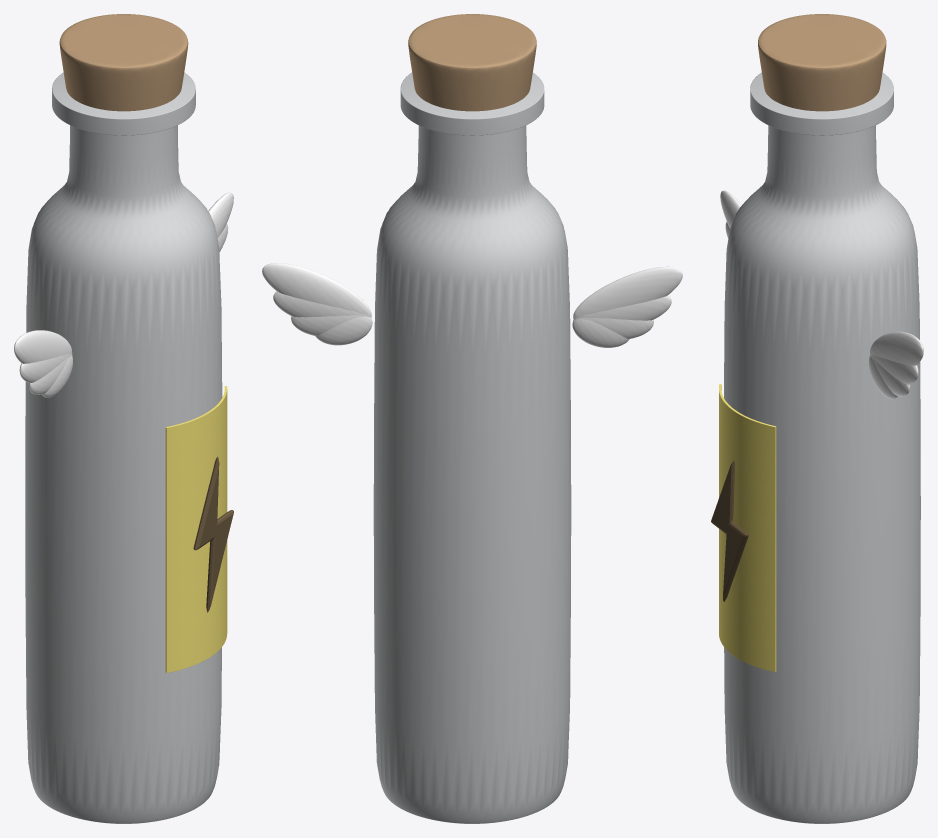
The model's file is speedpotion.glb.
The picture shows the model from 3 angles, left to right: view 1: azimuth 30°, elevation 25°; view 2: azimuth 150°, elevation 25°; view 3: azimuth 270°, elevation 25°; orthographic projection.
Parts seen in each view (by area): view 1: SpeedPotion_Glass, SpeedPotion_Label, SpeedPotion_Cork, SpeedPotion_LabelIcon, SpeedPotion_WingFeather.004, SpeedPotion_WingFeather.005, SpeedPotion_WingFeather, SpeedPotion_WingFeather.006, SpeedPotion_WingFeather.007; view 2: SpeedPotion_Glass, SpeedPotion_Cork, SpeedPotion_WingFeather, SpeedPotion_WingFeather.004, SpeedPotion_WingFeather.005, SpeedPotion_WingFeather.001, SpeedPotion_WingFeather.003, SpeedPotion_WingFeather.007, SpeedPotion_WingFeather.006, SpeedPotion_WingFeather.002; view 3: SpeedPotion_Glass, SpeedPotion_Label, SpeedPotion_Cork, SpeedPotion_LabelIcon, SpeedPotion_WingFeather, SpeedPotion_WingFeather.001, SpeedPotion_WingFeather.002, SpeedPotion_WingFeather.004.
Boxes of the visible parts, left/top/right/bottom form: SpeedPotion_Glass: left=25, top=72, right=222, bottom=823; SpeedPotion_Label: left=165, top=386, right=227, bottom=672; SpeedPotion_Cork: left=59, top=14, right=188, bottom=111; SpeedPotion_LabelIcon: left=193, top=456, right=233, bottom=612; SpeedPotion_WingFeather.004: left=14, top=330, right=72, bottom=363; SpeedPotion_WingFeather.005: left=19, top=353, right=72, bottom=383; SpeedPotion_WingFeather: left=208, top=192, right=233, bottom=237; SpeedPotion_WingFeather.006: left=28, top=355, right=72, bottom=394; SpeedPotion_WingFeather.007: left=42, top=355, right=72, bottom=397; SpeedPotion_Glass: left=373, top=72, right=571, bottom=823; SpeedPotion_Cork: left=408, top=14, right=536, bottom=111; SpeedPotion_WingFeather: left=262, top=263, right=371, bottom=316; SpeedPotion_WingFeather.004: left=573, top=266, right=682, bottom=318; SpeedPotion_WingFeather.005: left=573, top=295, right=671, bottom=320; SpeedPotion_WingFeather.001: left=273, top=291, right=371, bottom=317; SpeedPotion_WingFeather.003: left=315, top=316, right=372, bottom=345; SpeedPotion_WingFeather.007: left=572, top=318, right=629, bottom=347; SpeedPotion_WingFeather.006: left=574, top=317, right=653, bottom=338; SpeedPotion_WingFeather.002: left=291, top=315, right=370, bottom=335; SpeedPotion_Glass: left=724, top=72, right=920, bottom=823; SpeedPotion_Label: left=719, top=384, right=776, bottom=671; SpeedPotion_Cork: left=758, top=14, right=886, bottom=111; SpeedPotion_LabelIcon: left=711, top=460, right=748, bottom=601; SpeedPotion_WingFeather: left=870, top=331, right=923, bottom=365; SpeedPotion_WingFeather.001: left=870, top=354, right=918, bottom=384; SpeedPotion_WingFeather.002: left=870, top=356, right=910, bottom=396; SpeedPotion_WingFeather.004: left=720, top=190, right=741, bottom=228.
Bounding box in the file's own units: 1.23 × 2.78 × 0.7084.
